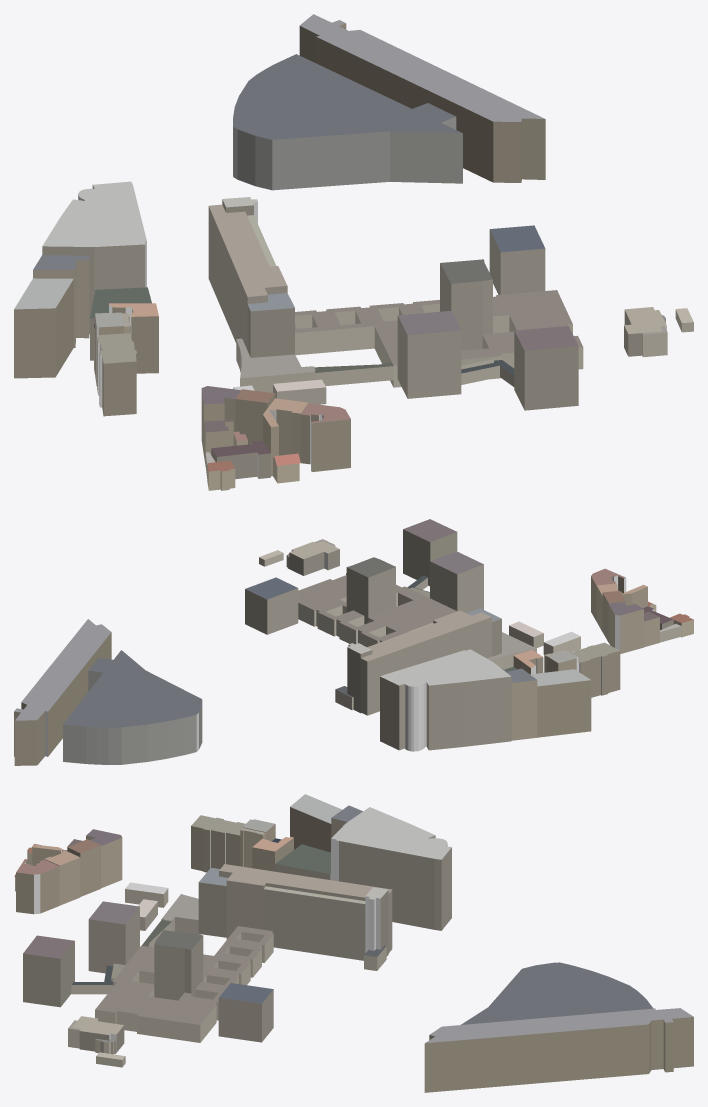
3 views of the same model, one above another, from view 1: azimuth 30°, elevation 25°; view 2: azimuth 150°, elevation 25°; view 3: azimuth 270°, elevation 25° (orthographic). The views are drawn at different scales.
Visible parts, largest first — view 1: tuile; view 2: tuile; view 3: tuile.
Boxes of the visible parts, x1,y1,x2,y2 form: tuile: (14,14,693,490); tuile: (14,519,693,765); tuile: (14,794,693,1092).
Bounding box in the file's own units: 261 × 37.67 × 312.
